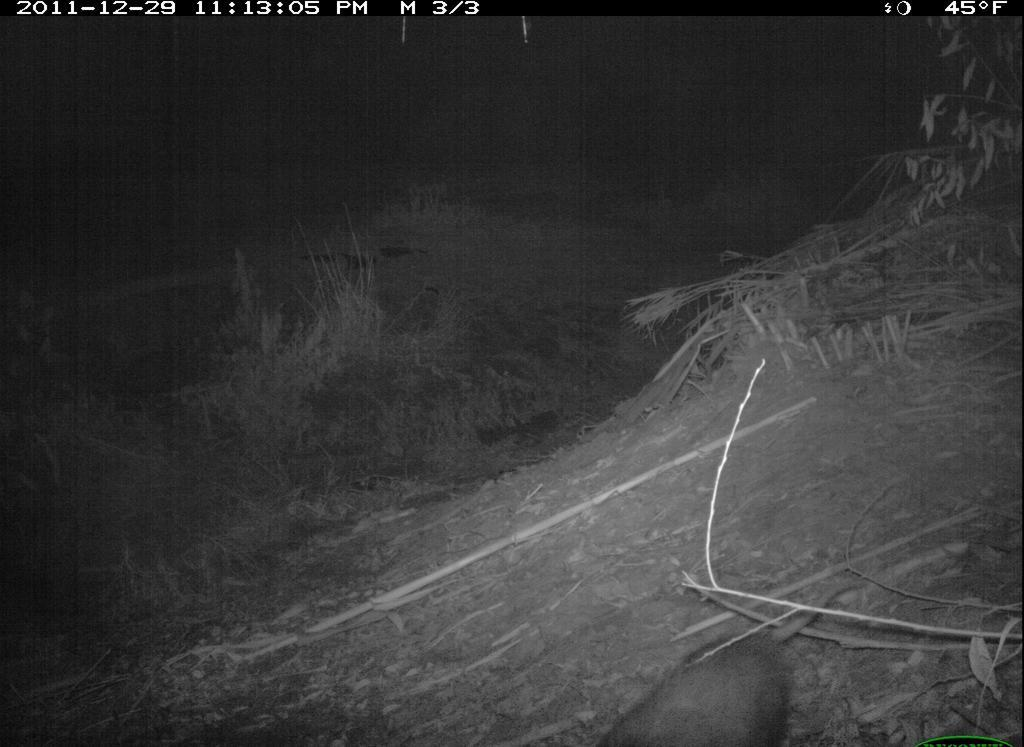opossum: (591, 562, 880, 747)
